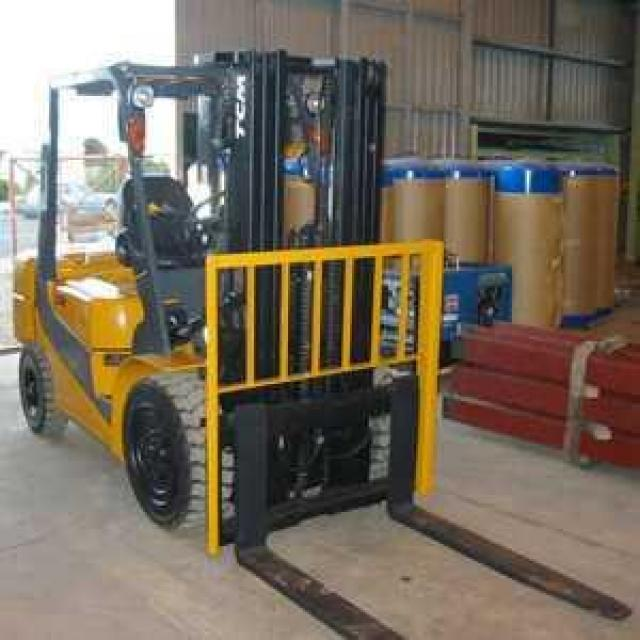Chariot elevateur: (11, 47, 632, 640)
